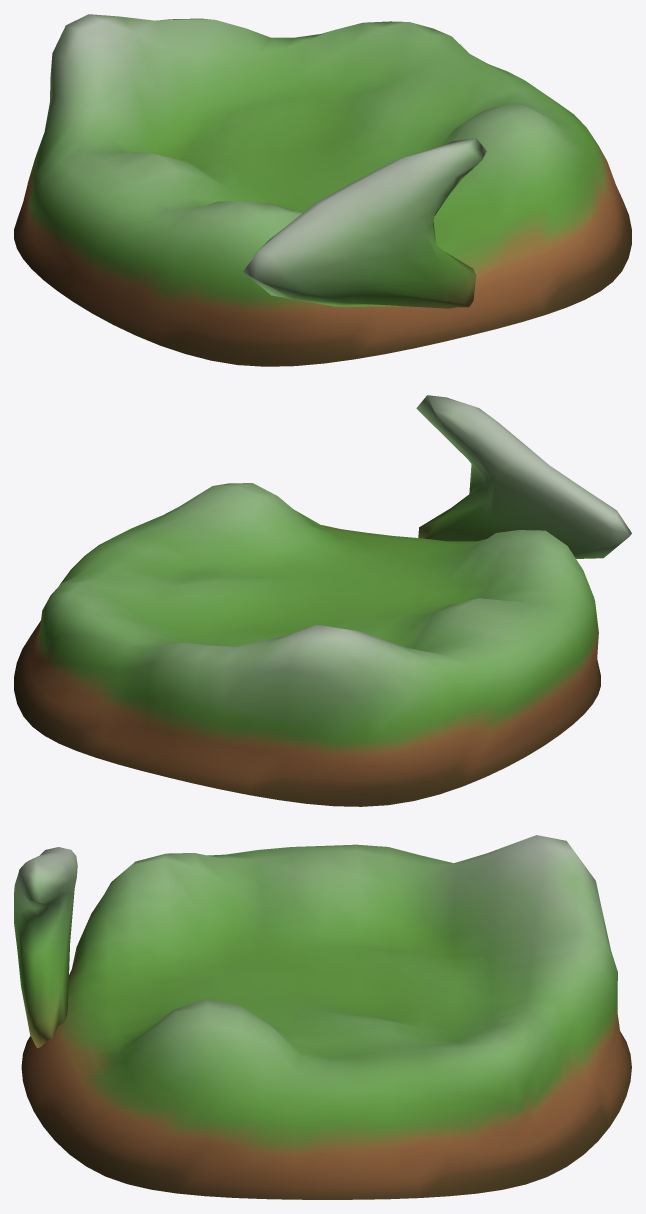
File: Ground01.fbx
3 views of the same model, one above another, from view 1: azimuth 30°, elevation 25°; view 2: azimuth 150°, elevation 25°; view 3: azimuth 270°, elevation 25° (orthographic). The views are drawn at different scales.
Visible parts, largest first — view 1: pCube2, pCube4; view 2: pCube2, pCube4; view 3: pCube2, pCube4.
Boxes of the visible parts, x1,y1,x2,y2 form: pCube2: (14,14,631,366); pCube4: (243,138,486,308); pCube2: (14,483,600,806); pCube4: (416,395,631,558); pCube2: (21,835,631,1199); pCube4: (14,847,77,1047).
Bounding box in the file's own units: 349 × 126 × 341.
